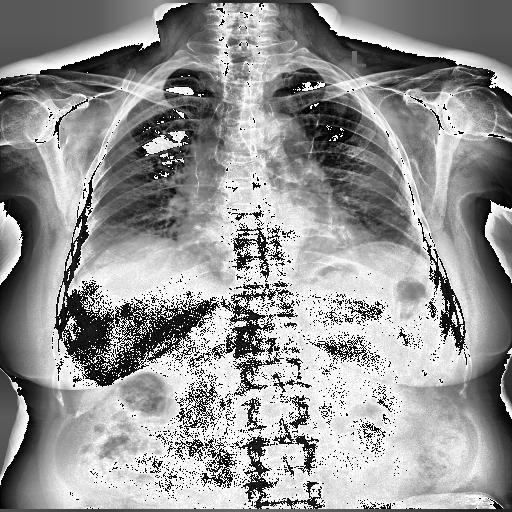0- Aortic enlargement: (241, 114, 320, 172), (248, 114, 314, 171), (237, 114, 307, 162)
3- Cardiomegaly: (172, 208, 372, 260), (172, 217, 376, 242)
